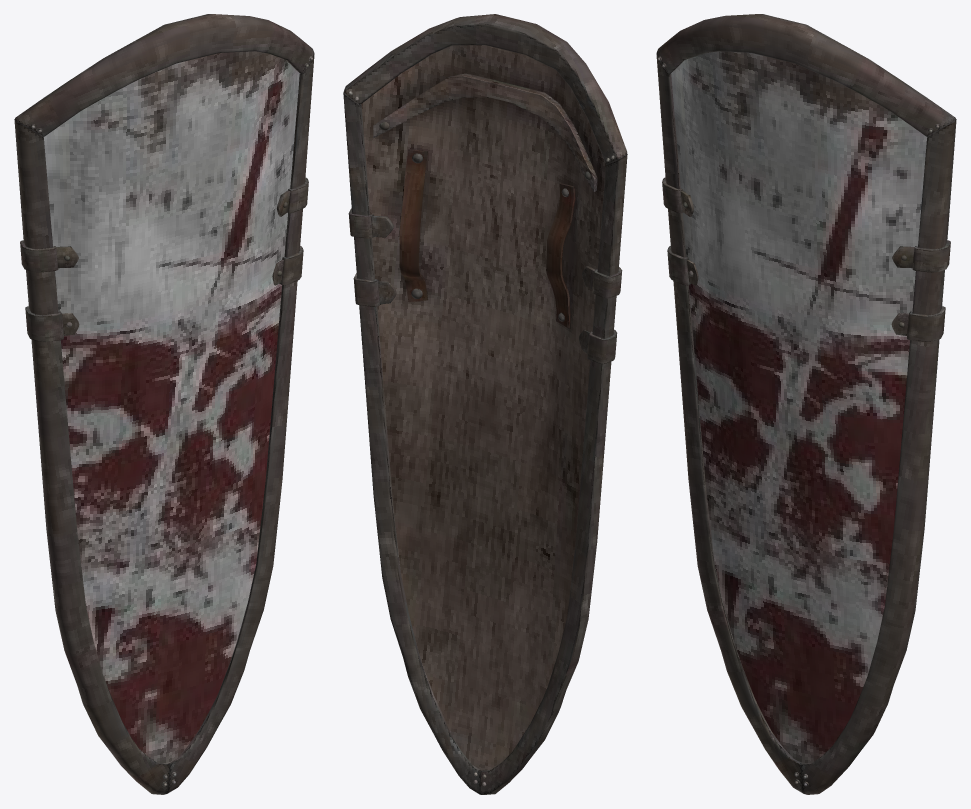
Rendered from natural-shield-quiet.glb.
3 views of the same model, side by side, from view 1: azimuth 30°, elevation 25°; view 2: azimuth 150°, elevation 25°; view 3: azimuth 330°, elevation 25° (orthographic). The views are drawn at different scales.
Parts seen in each view (by area): view 1: natural-shield-quiet runtime mesh; view 2: natural-shield-quiet runtime mesh; view 3: natural-shield-quiet runtime mesh.
Part boxes in pixels (box(x1,y1,x2,y2)): natural-shield-quiet runtime mesh: box(14, 14, 314, 794); natural-shield-quiet runtime mesh: box(343, 14, 627, 794); natural-shield-quiet runtime mesh: box(656, 14, 956, 794).
Size of the model in its own units: 0.3273 by 0.84 by 0.0812.
Materials: 2 (2 with a texture image).
